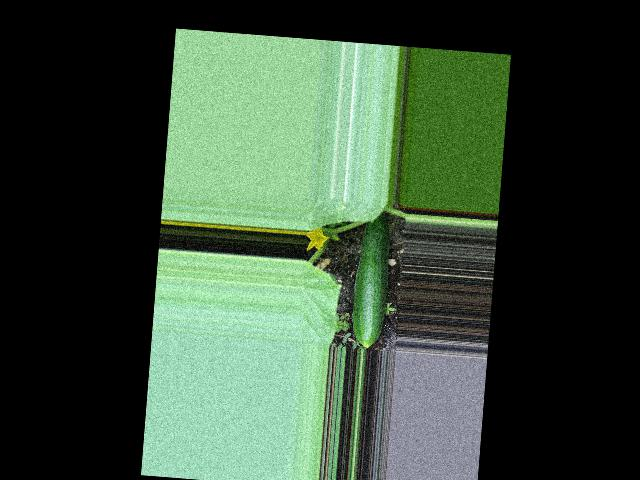cucumber: (350, 213, 393, 350)
